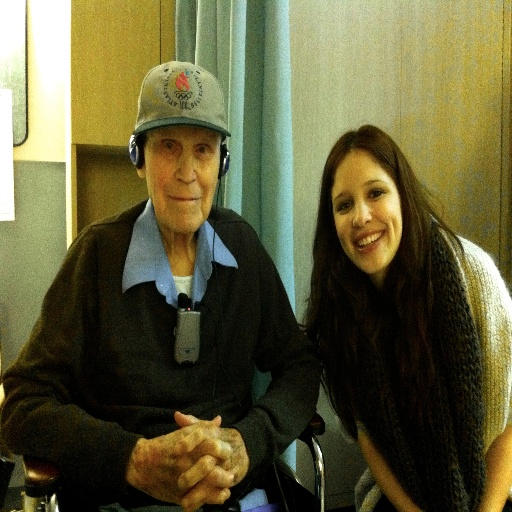hand: (172, 409, 250, 511)
